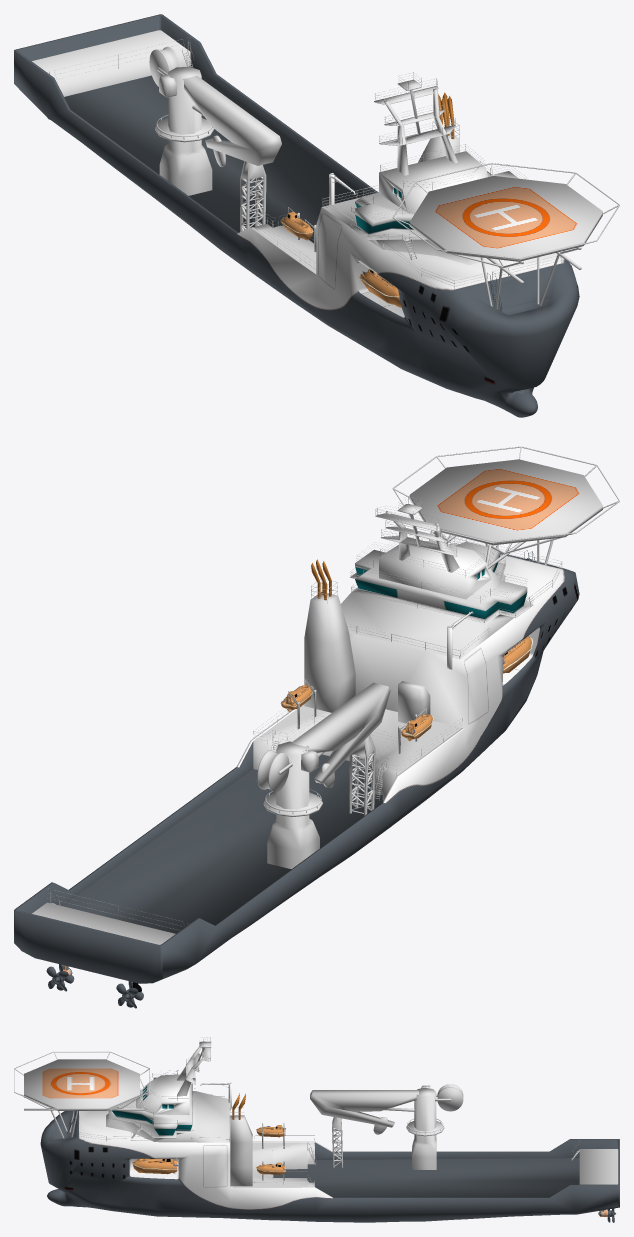
Rendered from osv.glb.
The picture shows the model from 3 angles, top to bottom: view 1: azimuth 30°, elevation 25°; view 2: azimuth 150°, elevation 25°; view 3: azimuth 270°, elevation 25°; orthographic projection. The views are drawn at different scales.
Visible parts, largest first — view 1: OsvHull, OsvHailipad, OsvCrane, OsvRearPlatform, OsvSubstructure, OsvSubstructureSmall, OsvFence, OsvTowers, OsvCraneholder, Osv2ndFloor, OsvHeilipadHolder, OsvLifeboatBig (+1 smaller); view 2: OsvHull, OsvHailipad, OsvSubstructure, OsvCrane, Osv2ndFloor, OsvChimney, OsvSubstructureSmall, OsvFence, OsvTowers, OsvRearPlatform, OsvCraneholder, OsvVent (+1 smaller); view 3: OsvHull, OsvCrane, OsvHailipad, OsvSubstructure, Osv2ndFloor, OsvSubstructureSmall, OsvChimney, OsvRearPlatform, OsvFence, OsvTowers, OsvLifeboatBig, OsvLifeboat (+2 smaller).
Boxes of the visible parts, x1,y1,x2,y2 form: OsvHull: (14,14,579,417); OsvHailipad: (392,163,619,261); OsvCrane: (149,46,281,195); OsvRearPlatform: (32,30,190,96); OsvSubstructure: (322,171,518,265); OsvSubstructureSmall: (379,151,487,213); OsvFence: (49,37,562,310); OsvTowers: (374,79,457,175); OsvCraneholder: (240,161,266,231); Osv2ndFloor: (253,224,316,272); OsvHeilipadHolder: (409,214,602,309); OsvLifeboatBig: (359,269,401,307); OsvHull: (14,543,579,983); OsvHailipad: (392,446,619,545); OsvSubstructure: (341,541,533,659); OsvCrane: (257,682,390,869); Osv2ndFloor: (253,704,461,800); OsvChimney: (304,592,355,712); OsvSubstructureSmall: (379,540,491,599); OsvFence: (47,496,562,930); OsvTowers: (375,504,459,572); OsvRearPlatform: (32,902,175,944); OsvCraneholder: (349,735,375,815); OsvVent: (398,681,430,723); OsvHull: (40,1110,619,1222); OsvCrane: (310,1084,463,1169); OsvHailipad: (14,1051,149,1110); OsvSubstructure: (106,1077,230,1142); Osv2ndFloor: (230,1142,314,1186); OsvSubstructureSmall: (136,1074,189,1115); OsvChimney: (230,1115,252,1186); OsvRearPlatform: (579,1149,618,1184); OsvFence: (67,1037,578,1186); OsvTowers: (177,1041,211,1096); OsvLifeboatBig: (132,1158,178,1174); OsvLifeboat: (256,1125,285,1174).
Bounding box in the file's own units: 28.37 × 41.92 × 126.
2 materials, 2 textured.
